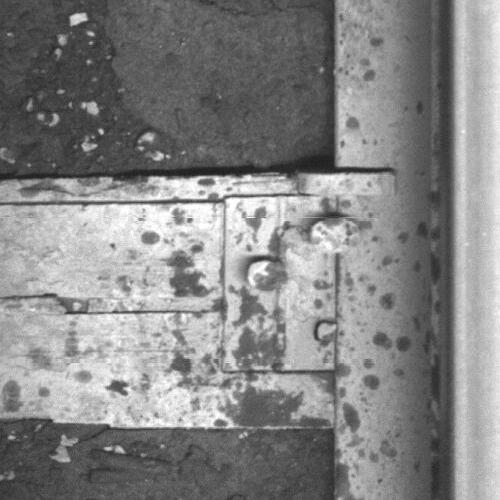crutch: (297, 169, 396, 197)
do: (223, 196, 362, 368)
rail: (451, 1, 500, 500)
tie_wood: (1, 178, 335, 427)
wood_crack: (1, 193, 223, 318)
